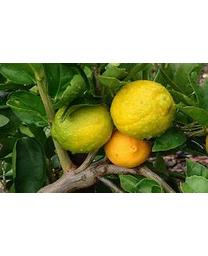lemon: (109, 80, 177, 139), (52, 101, 115, 153), (105, 129, 151, 168)
